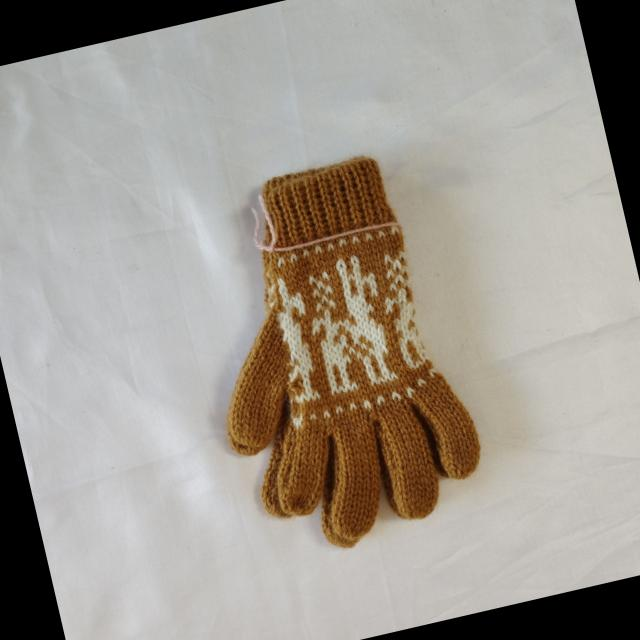Guante: (172, 142, 496, 569)
